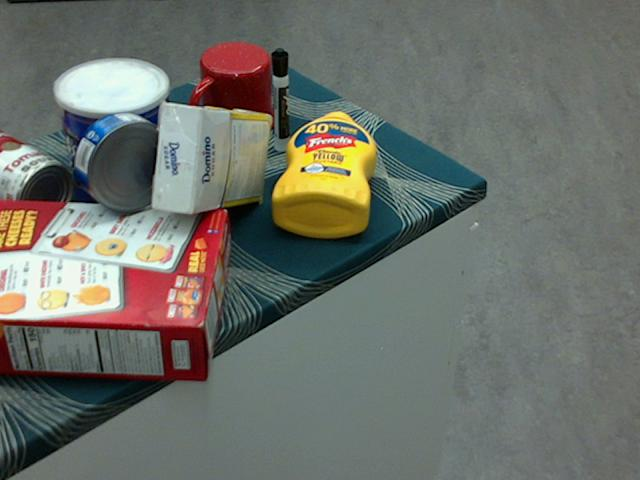cracker_box: (0, 198, 230, 379)
large_marker: (271, 47, 289, 152)
master_chef_can: (55, 60, 175, 237)
mug: (186, 43, 276, 140)
mustard_bottle: (272, 110, 376, 237)
potted_meat_can: (71, 91, 169, 176)
sugar_box: (152, 105, 269, 216)
tomato_soup_can: (0, 126, 73, 224)
tuna_fish_can: (74, 111, 177, 213)
